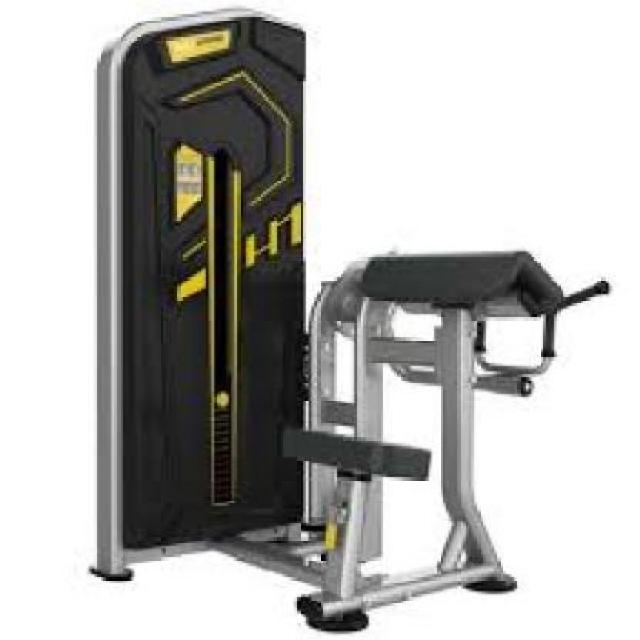arm curl machine: (88, 8, 612, 634)
